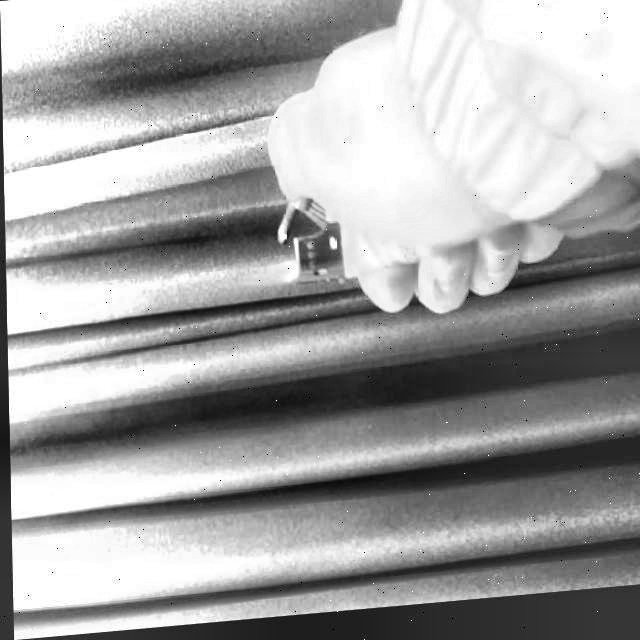Fire: (242, 263, 297, 297)
